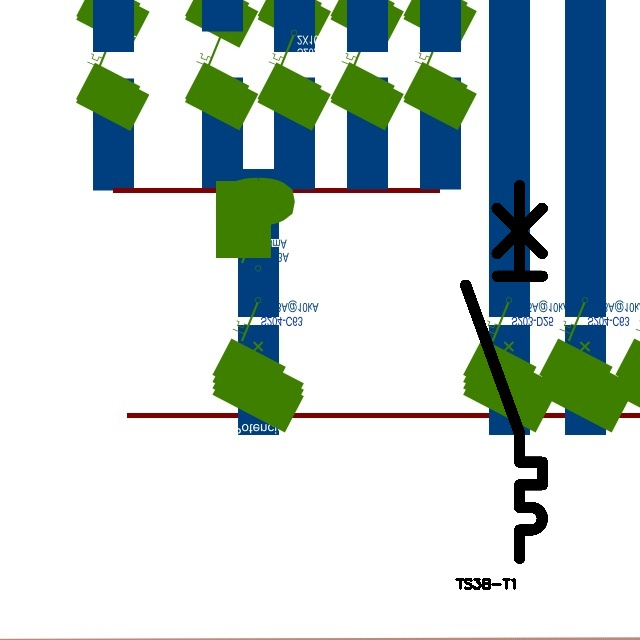interruptor_termomagnetico: (456, 176, 552, 568)
